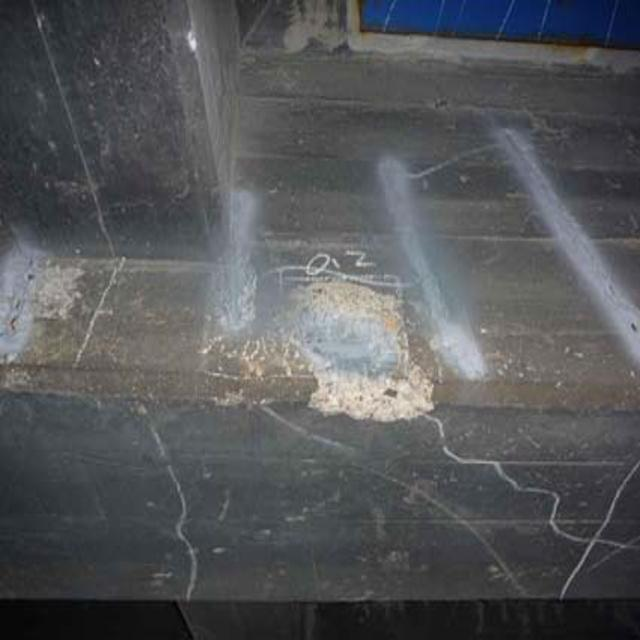spalling: (276, 253, 440, 441)
